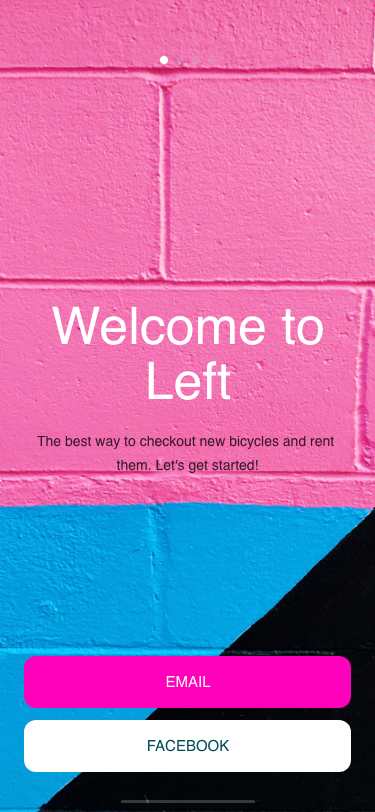BackgroundImage: (1, 1, 375, 812)
Text: (52, 307, 323, 401), (37, 435, 335, 474)
TextButton: (25, 656, 351, 708), (25, 720, 351, 772)
